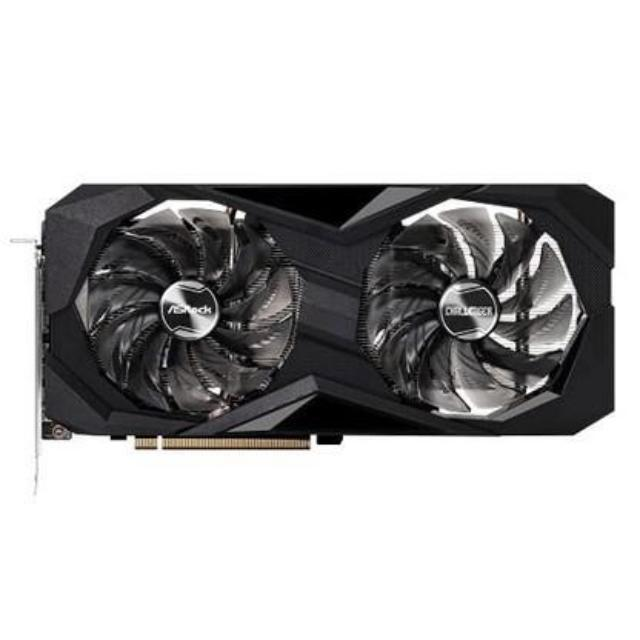GPU: (30, 178, 616, 462)
